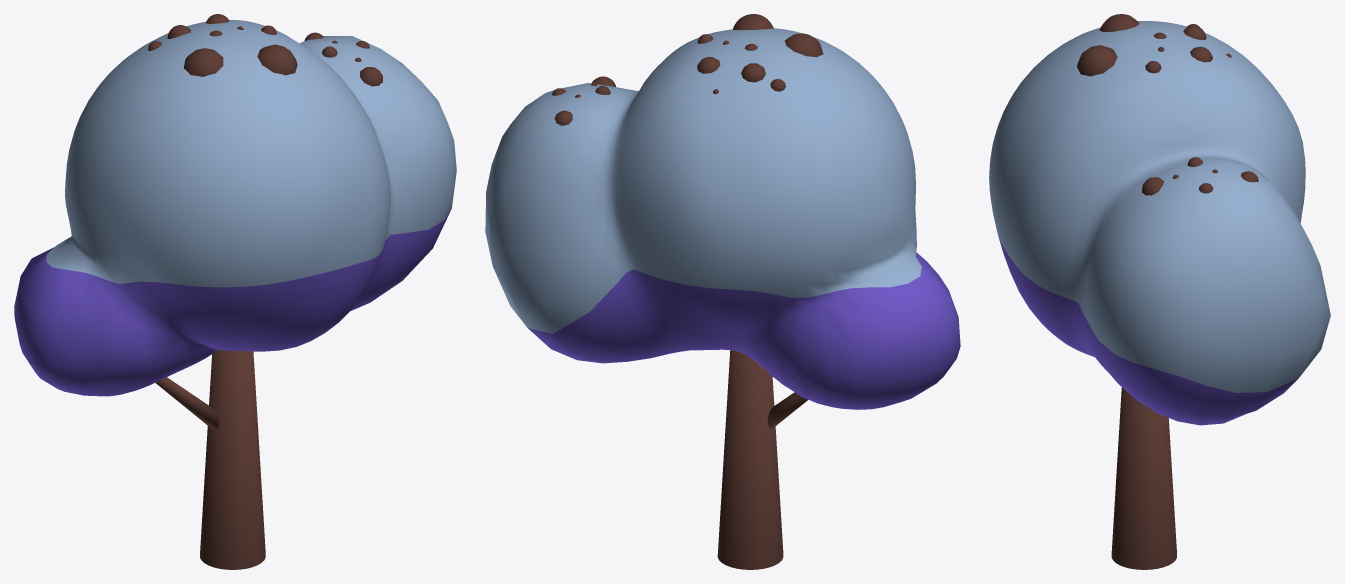
Rendered from tree details 1.fbx.
The picture shows the model from 3 angles, left to right: view 1: azimuth 30°, elevation 25°; view 2: azimuth 150°, elevation 25°; view 3: azimuth 270°, elevation 25°; orthographic projection.
Visible parts, largest first — view 1: trees.001; view 2: trees.001; view 3: trees.001.
Part boxes in pixels (box(x1,y1,x2,y2)): trees.001: box(14, 14, 456, 569); trees.001: box(485, 14, 960, 569); trees.001: box(989, 14, 1330, 569).
Bounding box in the file's own units: 1140 × 1307 × 777.
